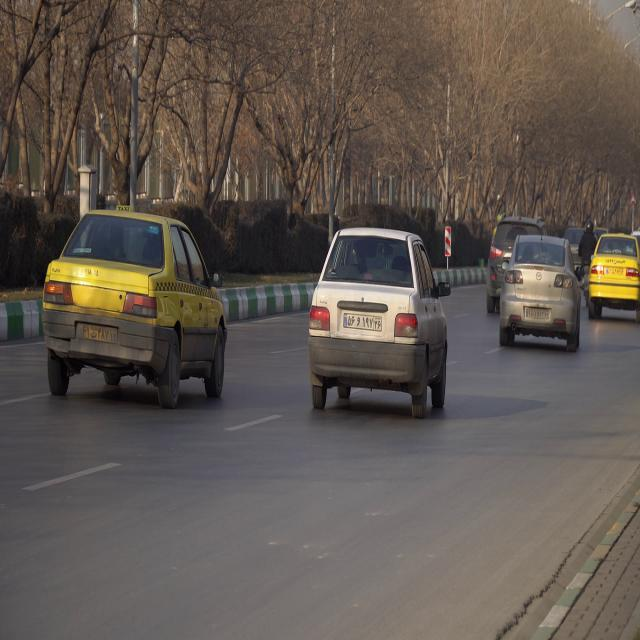car: (43, 217, 227, 406), (306, 226, 449, 411), (498, 241, 584, 347), (483, 217, 545, 312), (590, 235, 640, 314)
